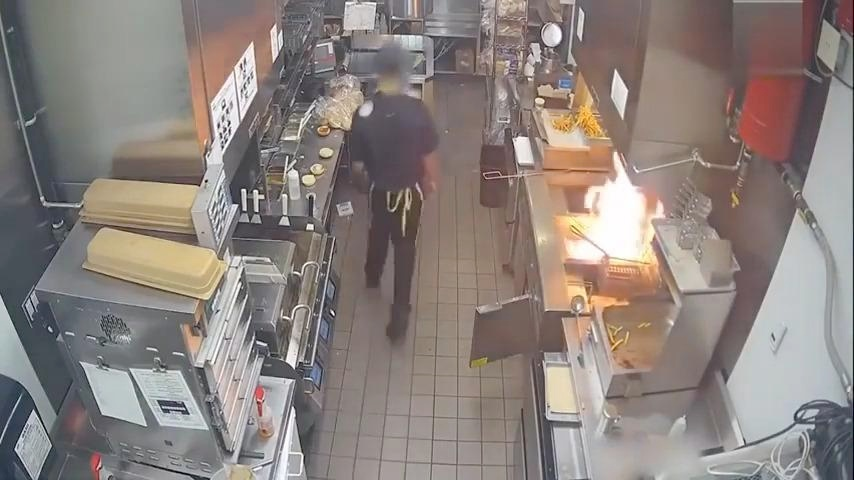fire: (550, 155, 676, 286)
